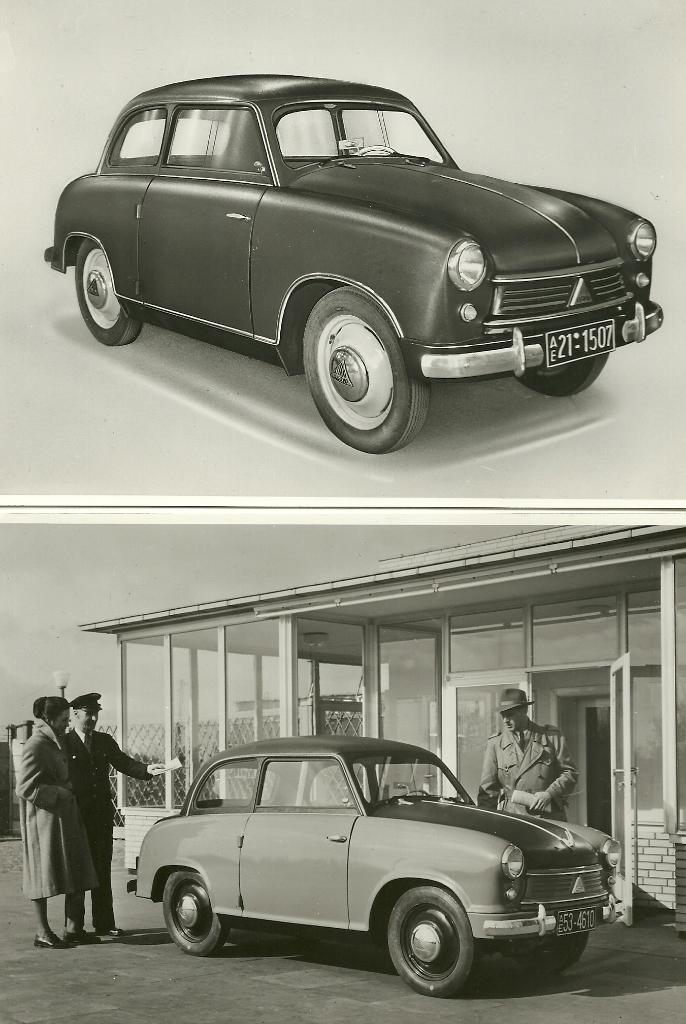Car: (33, 74, 662, 449), (118, 728, 624, 993)
